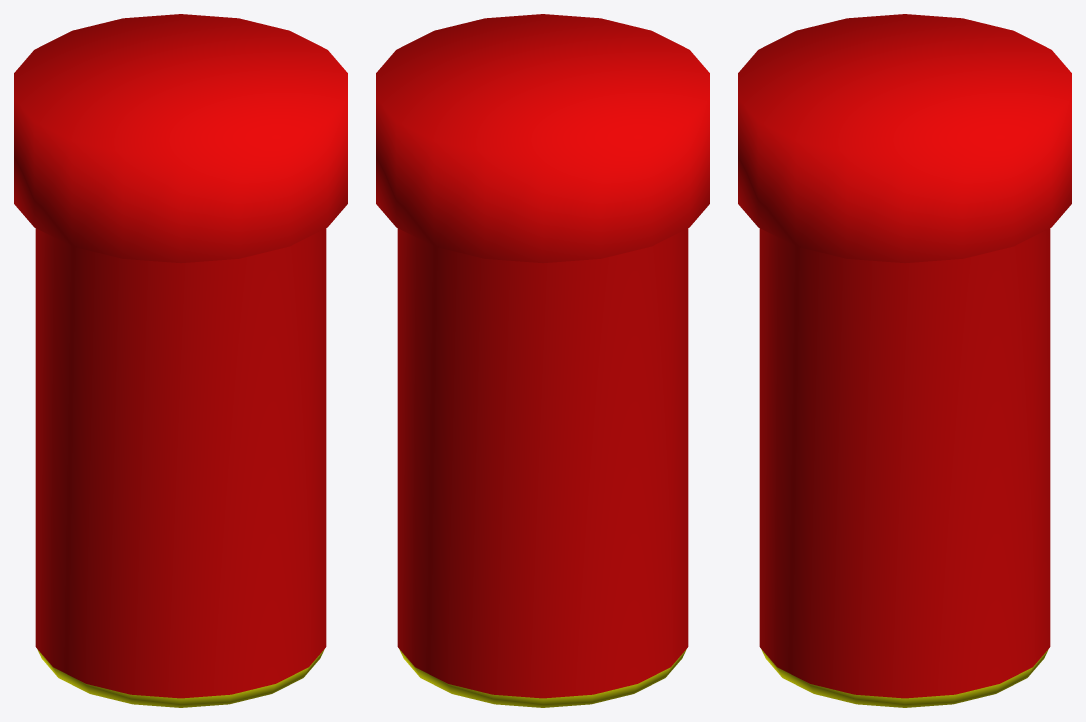
Rendered from pill_bottles_grp.fbx.
3 renders of one model, left to right at view 1: azimuth 30°, elevation 25°; view 2: azimuth 150°, elevation 25°; view 3: azimuth 270°, elevation 25°, orthographic.
Visible parts, largest first — view 1: pill_bottle_1; view 2: pill_bottle_1; view 3: pill_bottle_1.
Boxes of the visible parts, <box> form: pill_bottle_1: <box>14,14,347,707</box>; pill_bottle_1: <box>376,14,709,707</box>; pill_bottle_1: <box>738,14,1071,707</box>.
Size of the model in its own units: 5.04 by 9.31 by 4.96.
